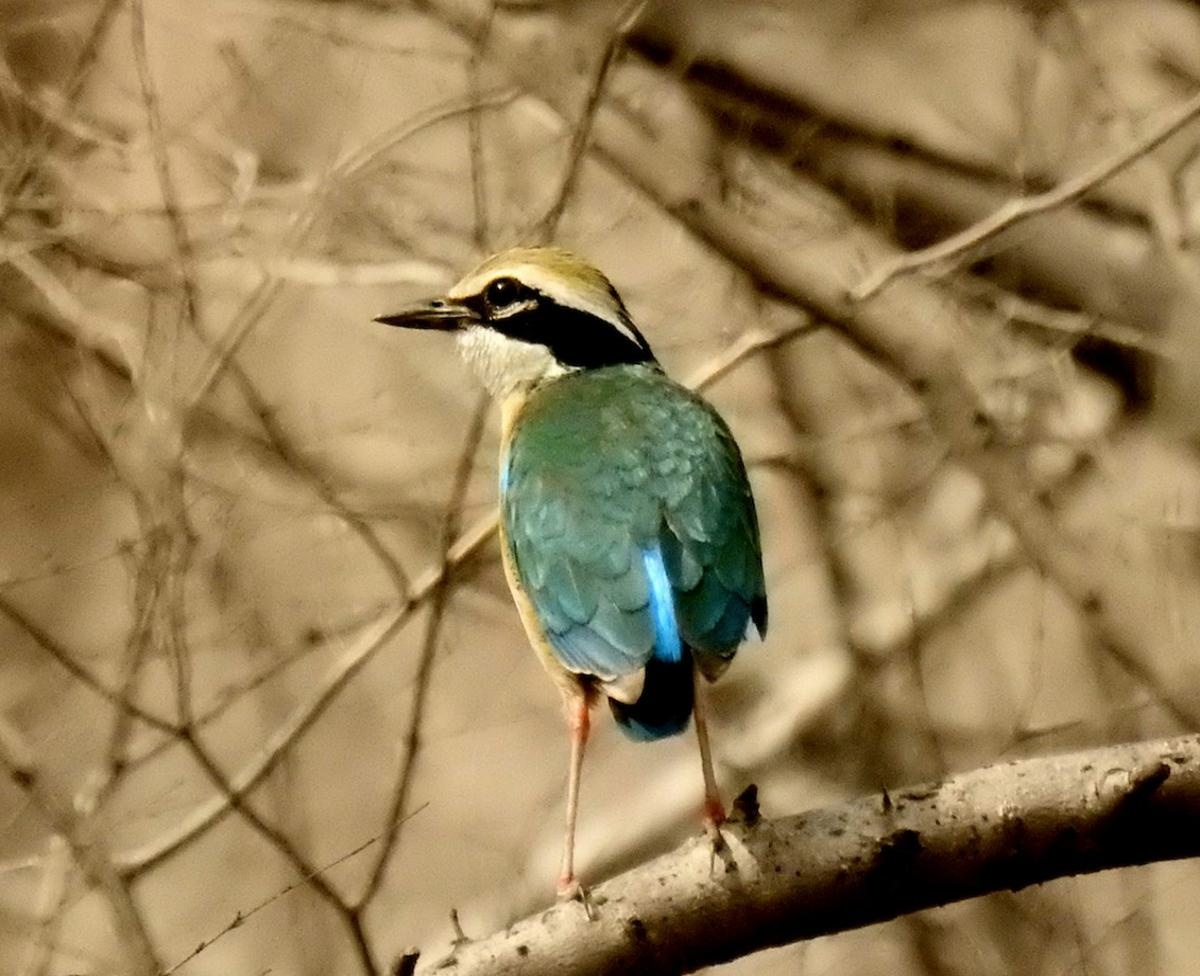pitta: (357, 236, 859, 871)
